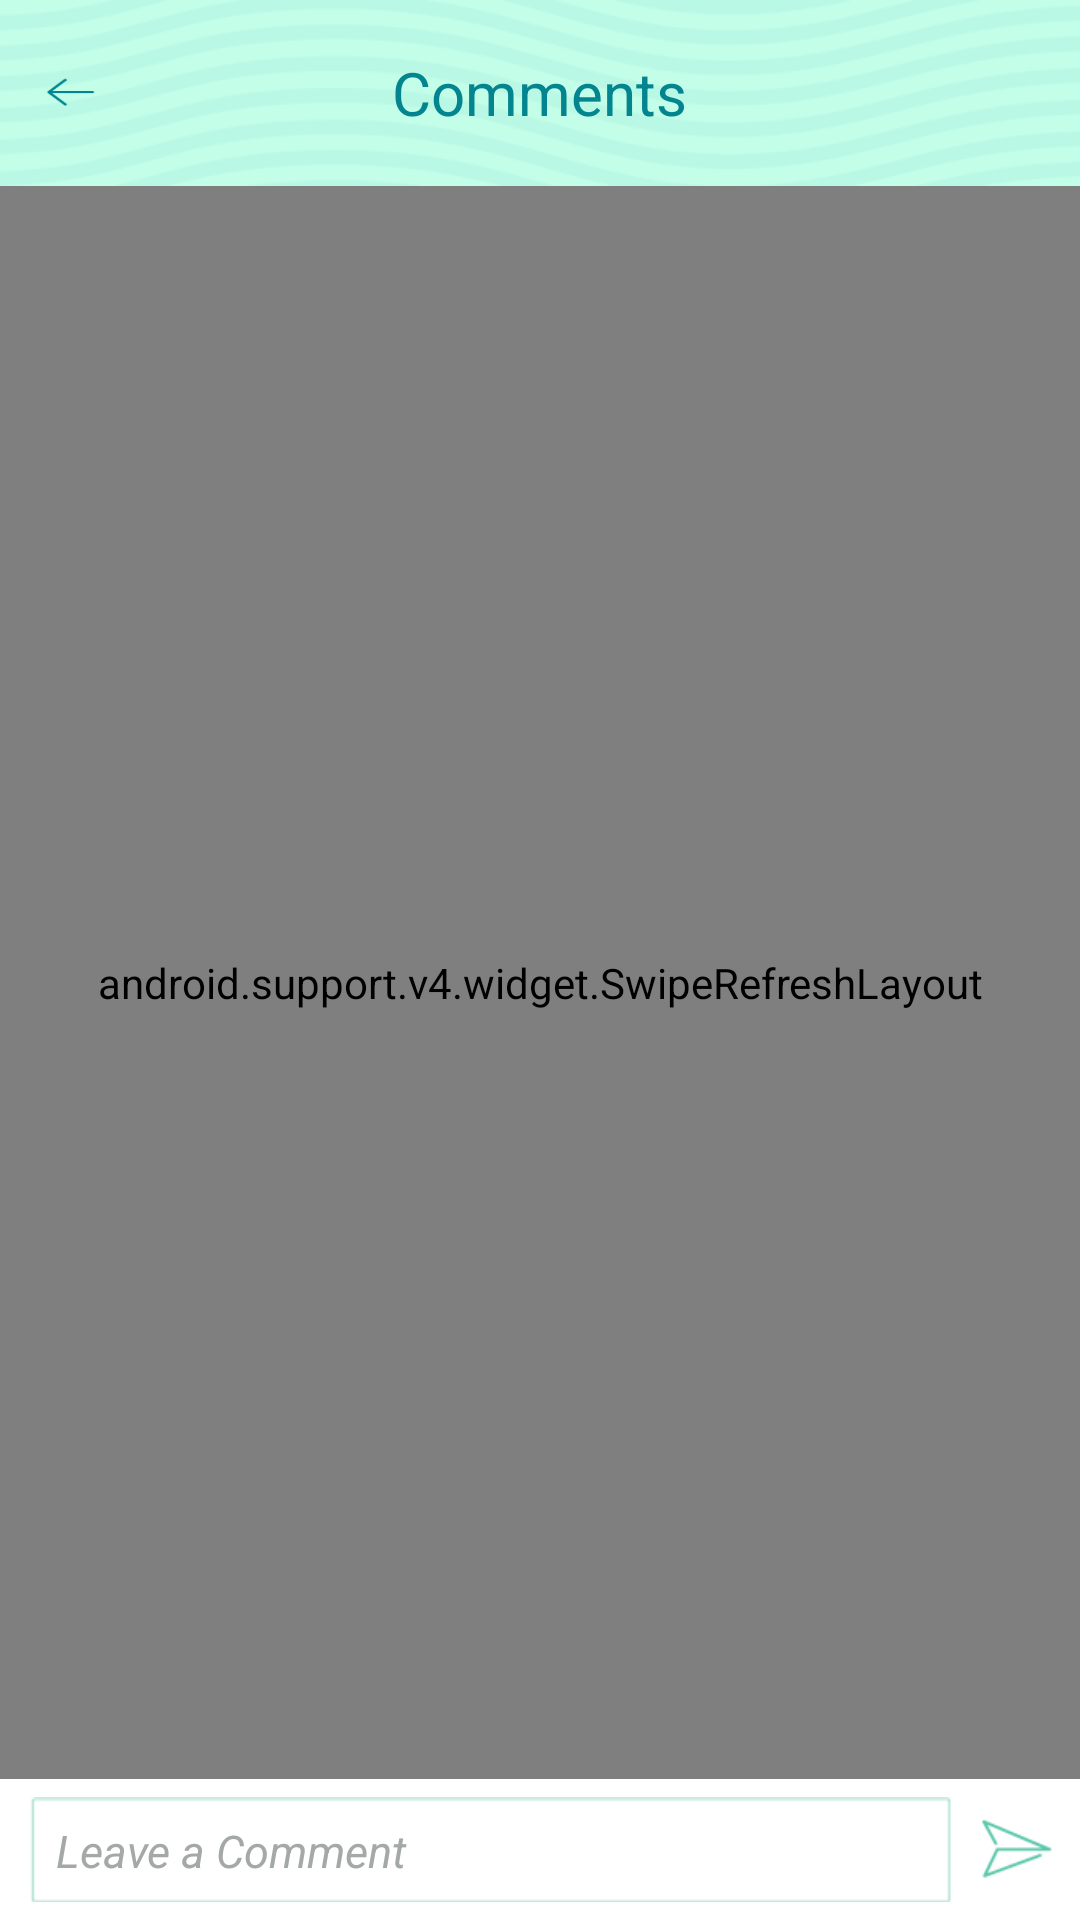

Icons on this 1080px×1920px Android screen, each with the point to tap as (x=x, y=y):
lft arrow: (x=70, y=92)
